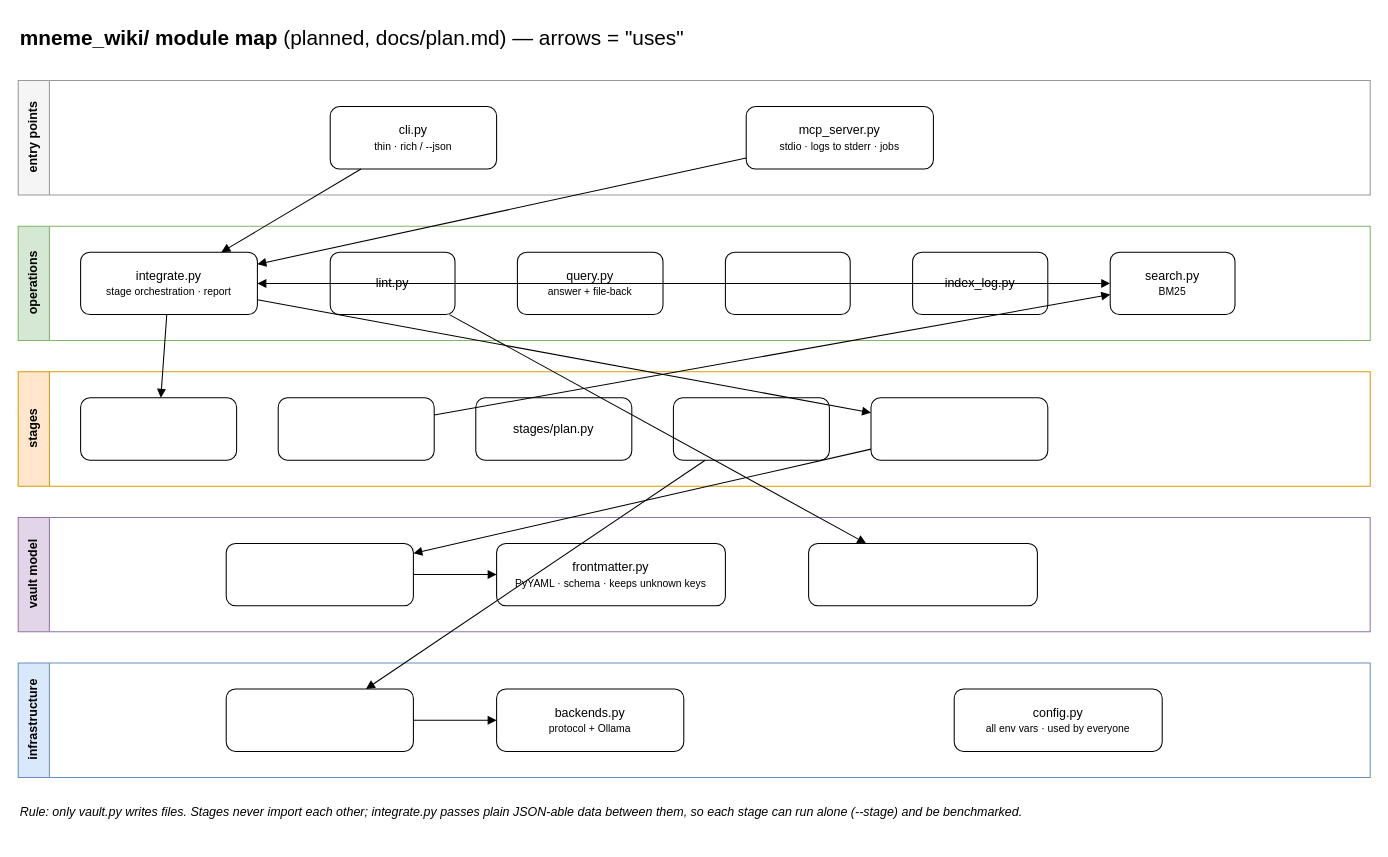
Image size: 1388x857. Some labels were removed from this diagram. The shapes that lost their labels are listed below. From the top down, each one's centre as x and y in pixels, then its label:
pixel 787 283: bench.py
pixel 158 428: stages/extract.py
pixel 355 428: stages/resolve.py
pixel 750 428: stages/patch.py
pixel 959 428: edits.py validate · apply · reject
pixel 319 574: vault.py only writer · atomic · git
pixel 922 574: links.py [[wikilinks]] · aliases · backlinks
pixel 319 719: llm.py chat_json · for_role(role)
